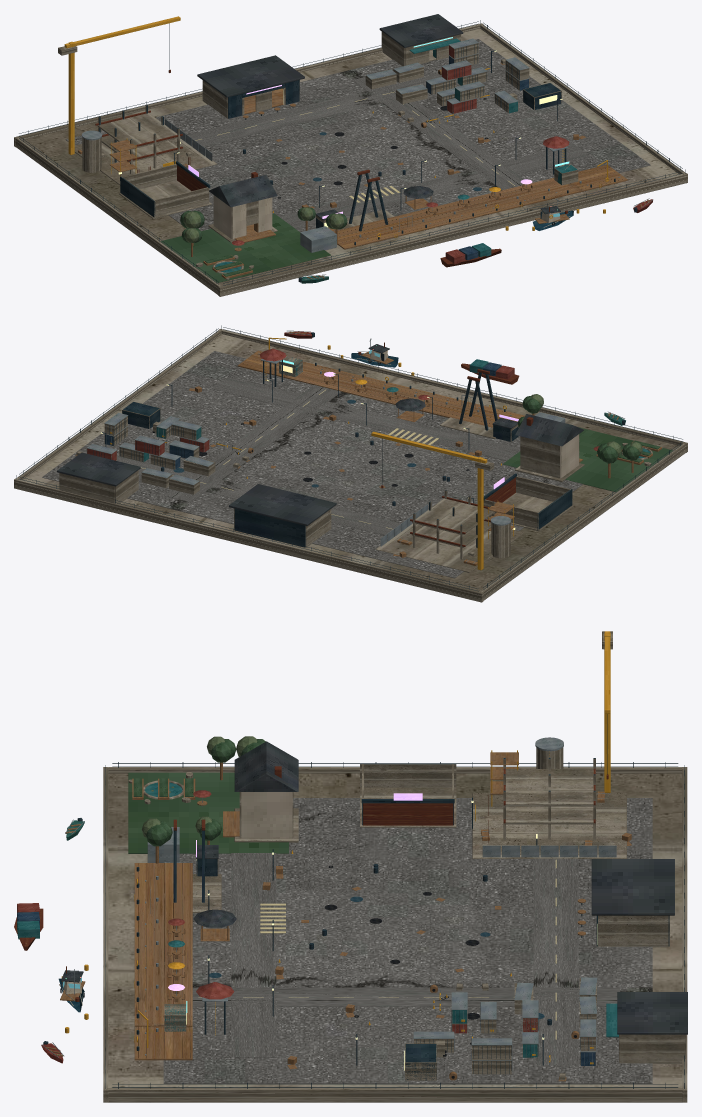
File: harbor-cinematic.glb
3 views of the same model, one above another, from view 1: azimuth 30°, elevation 25°; view 2: azimuth 150°, elevation 25°; view 3: azimuth 270°, elevation 25° (orthographic). The views are drawn at different scales.
Parts seen in each view (by area): view 1: base_MESH_asphalt_LOD0, base_MESH_concrete_LOD0, base_MESH_concrete_warm_LOD0, base_MESH_wood_LOD0, base_MESH_foliage_LOD0, dock_MESH_roof_LOD0, base_MESH_steel_navy_LOD0, construction_MESH_concrete_LOD0, container-yard_MESH_steel_galvanized_LOD0, construction_MESH_concrete_warm_LOD0, residential_MESH_plaster_LOD0, construction_MESH_safety_LOD0 (+18 smaller); view 2: base_MESH_asphalt_LOD0, base_MESH_concrete_warm_LOD0, base_MESH_concrete_LOD0, base_MESH_wood_LOD0, dock_MESH_roof_LOD0, base_MESH_foliage_LOD0, construction_MESH_concrete_warm_LOD0, base_MESH_steel_navy_LOD0, construction_MESH_concrete_LOD0, container-yard_MESH_steel_galvanized_LOD0, dock_MESH_steel_navy_LOD0, construction_MESH_safety_LOD0 (+16 smaller); view 3: base_MESH_asphalt_LOD0, base_MESH_concrete_LOD0, base_MESH_concrete_warm_LOD0, base_MESH_wood_LOD0, dock_MESH_roof_LOD0, base_MESH_foliage_LOD0, construction_MESH_concrete_warm_LOD0, construction_MESH_concrete_LOD0, container-yard_MESH_steel_galvanized_LOD0, residential_MESH_roof_LOD0, residential_MESH_plaster_LOD0, base_MESH_steel_navy_LOD0 (+14 smaller).
Boxes of the visible parts, <box> form: base_MESH_asphalt_LOD0: <box>65,38,650,232</box>; base_MESH_concrete_LOD0: <box>22,28,678,285</box>; base_MESH_concrete_warm_LOD0: <box>14,23,687,296</box>; base_MESH_wood_LOD0: <box>333,165,627,249</box>; base_MESH_foliage_LOD0: <box>160,213,330,282</box>; dock_MESH_roof_LOD0: <box>197,14,463,97</box>; base_MESH_steel_navy_LOD0: <box>19,21,682,285</box>; construction_MESH_concrete_LOD0: <box>58,46,180,162</box>; container-yard_MESH_steel_galvanized_LOD0: <box>366,38,529,123</box>; construction_MESH_concrete_warm_LOD0: <box>74,138,216,185</box>; residential_MESH_plaster_LOD0: <box>213,195,272,239</box>; construction_MESH_safety_LOD0: <box>64,16,180,176</box>; base_MESH_asphalt_LOD0: <box>42,351,582,578</box>; base_MESH_concrete_warm_LOD0: <box>14,329,687,602</box>; base_MESH_concrete_LOD0: <box>23,334,679,591</box>; base_MESH_wood_LOD0: <box>237,350,524,427</box>; dock_MESH_roof_LOD0: <box>57,452,336,525</box>; base_MESH_foliage_LOD0: <box>503,427,672,492</box>; construction_MESH_concrete_warm_LOD0: <box>375,523,524,572</box>; base_MESH_steel_navy_LOD0: <box>19,327,682,591</box>; construction_MESH_concrete_LOD0: <box>412,461,494,547</box>; container-yard_MESH_steel_galvanized_LOD0: <box>87,412,240,485</box>; dock_MESH_steel_navy_LOD0: <box>234,508,305,547</box>; construction_MESH_safety_LOD0: <box>371,431,513,570</box>; base_MESH_asphalt_LOD0: <box>163,798,652,1083</box>; base_MESH_concrete_LOD0: <box>108,773,682,1087</box>; base_MESH_concrete_warm_LOD0: <box>103,767,687,1102</box>; base_MESH_wood_LOD0: <box>134,863,192,1060</box>; dock_MESH_roof_LOD0: <box>591,859,687,1034</box>; base_MESH_foliage_LOD0: <box>128,772,288,853</box>; construction_MESH_concrete_warm_LOD0: <box>472,793,626,858</box>; construction_MESH_concrete_LOD0: <box>504,631,612,824</box>; container-yard_MESH_steel_galvanized_LOD0: <box>413,977,597,1071</box>; residential_MESH_roof_LOD0: <box>234,741,298,791</box>; residential_MESH_plaster_LOD0: <box>241,792,292,838</box>; base_MESH_steel_navy_LOD0: <box>105,763,684,1087</box>.
Size of what is drawn, in the model's own units: 119 by 28.6 by 105.
28 materials, 28 textured.
